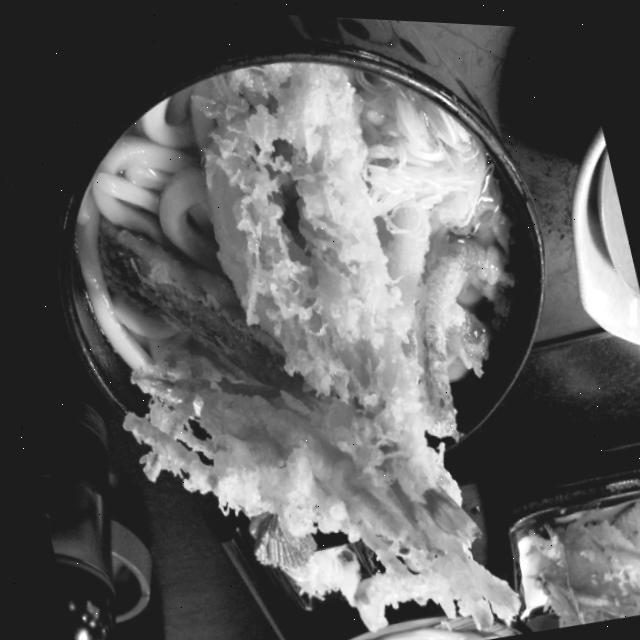面条主食: (32, 1, 569, 594)
